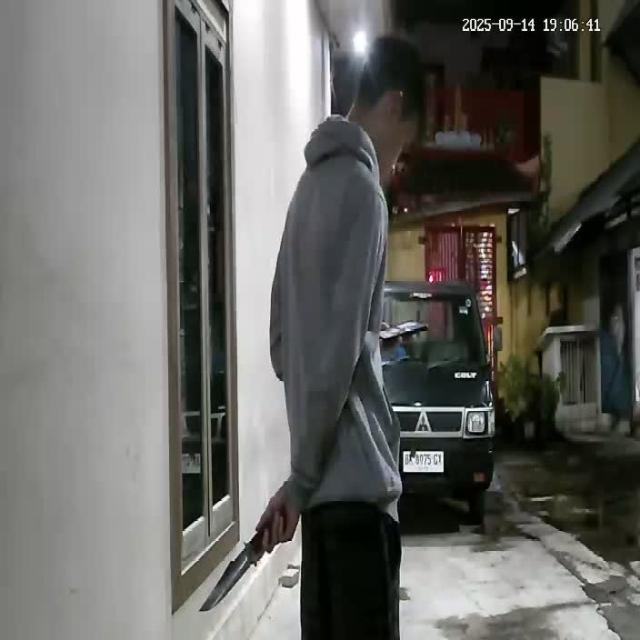senjata_tajam: (195, 530, 260, 614)
